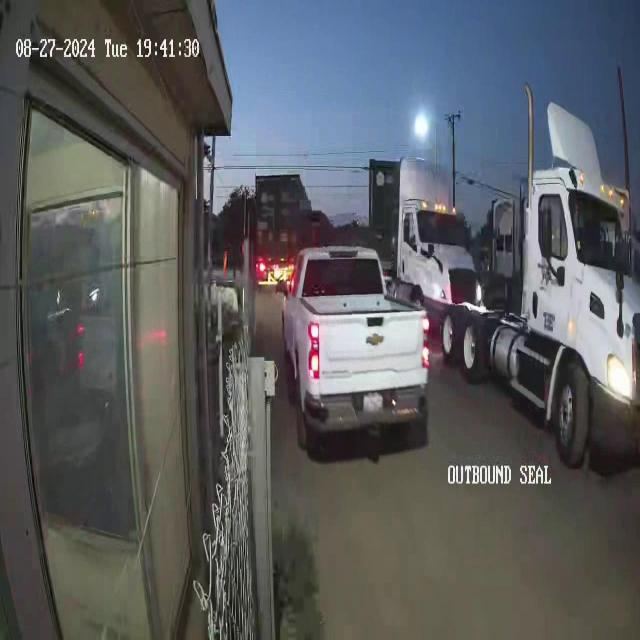TRUCK_OUT: (405, 67, 639, 471)
